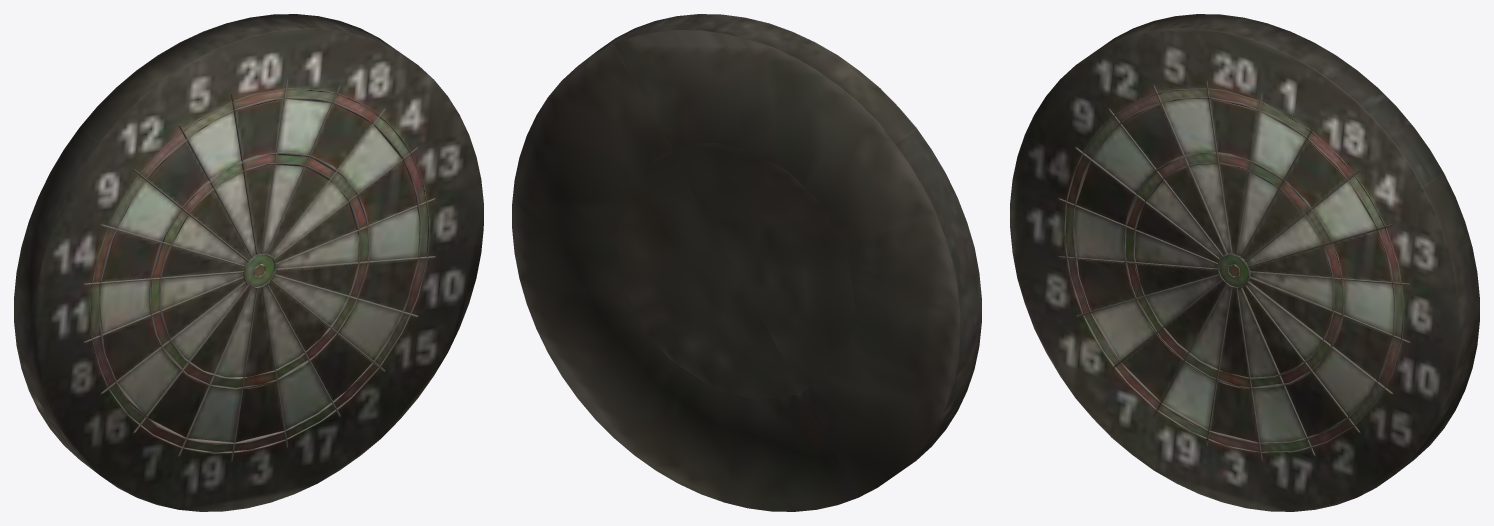
Rendered from dartboard.low.glb.
3 renders of one model, left to right at view 1: azimuth 30°, elevation 25°; view 2: azimuth 150°, elevation 25°; view 3: azimuth 330°, elevation 25°, orthographic.
Parts seen in each view (by area): view 1: dartboard; view 2: dartboard; view 3: dartboard.
Part boxes in pixels (<box>): dartboard: <box>14,14,483,511</box>; dartboard: <box>512,14,981,511</box>; dartboard: <box>1010,14,1479,511</box>.
Bounding box in the file's own units: 0.4507 × 0.4507 × 0.0398.
1 material, 1 textured.
